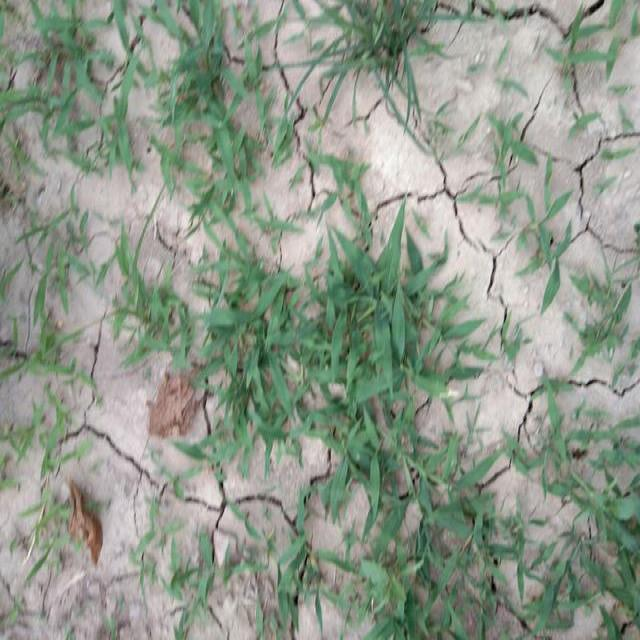weed: (289, 217, 432, 546), (221, 270, 455, 459), (331, 427, 498, 640), (148, 1, 267, 234), (540, 417, 639, 640), (15, 0, 163, 147), (312, 0, 462, 116)
